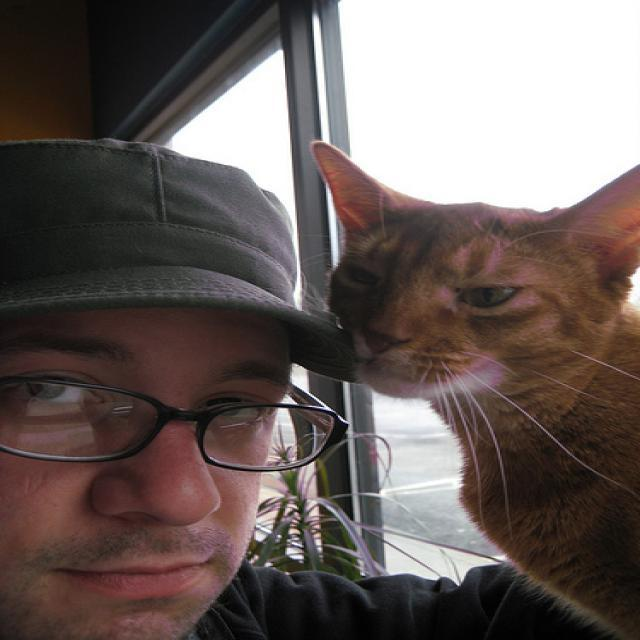Abyssinian: (304, 143, 640, 411)
